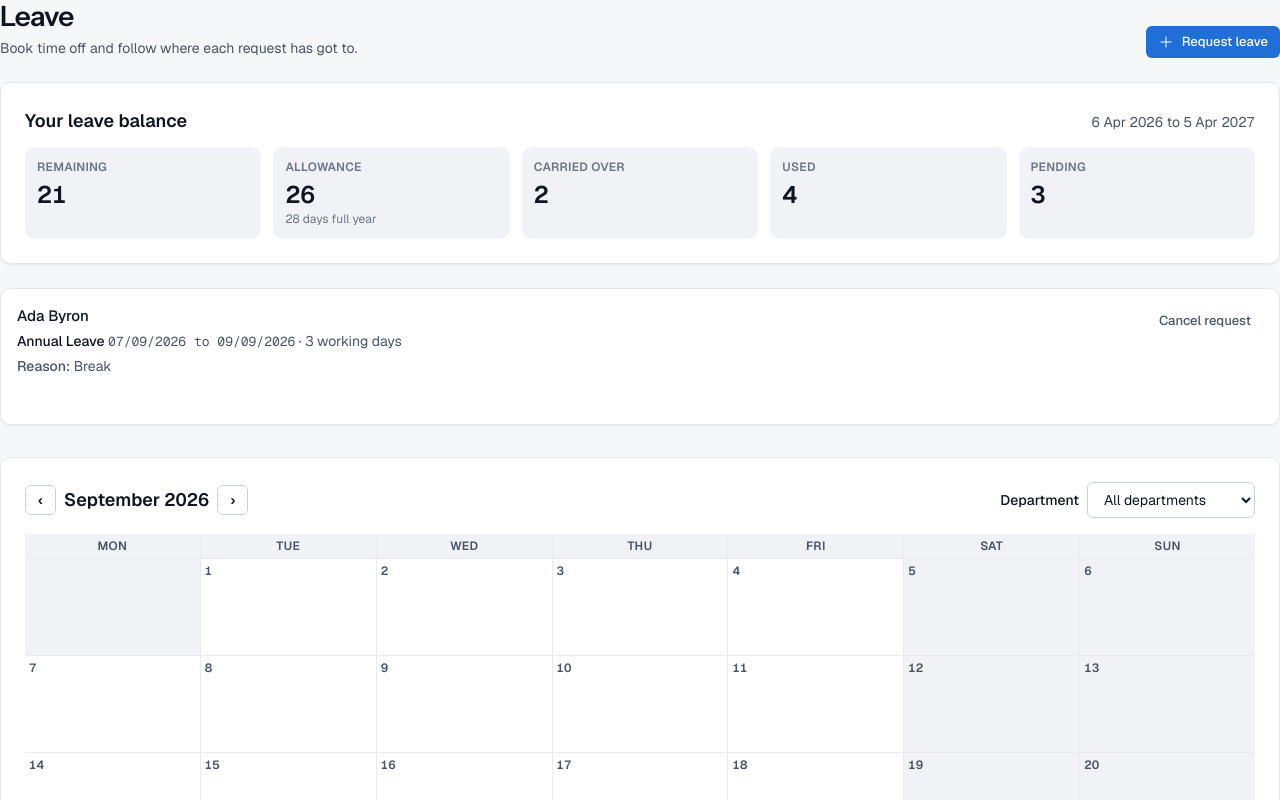
Test: Leave page › asks the server how many working days the dates cover
Step 1. Click the button "Request leave" → (1213, 42), box [1146, 26, 1279, 58]
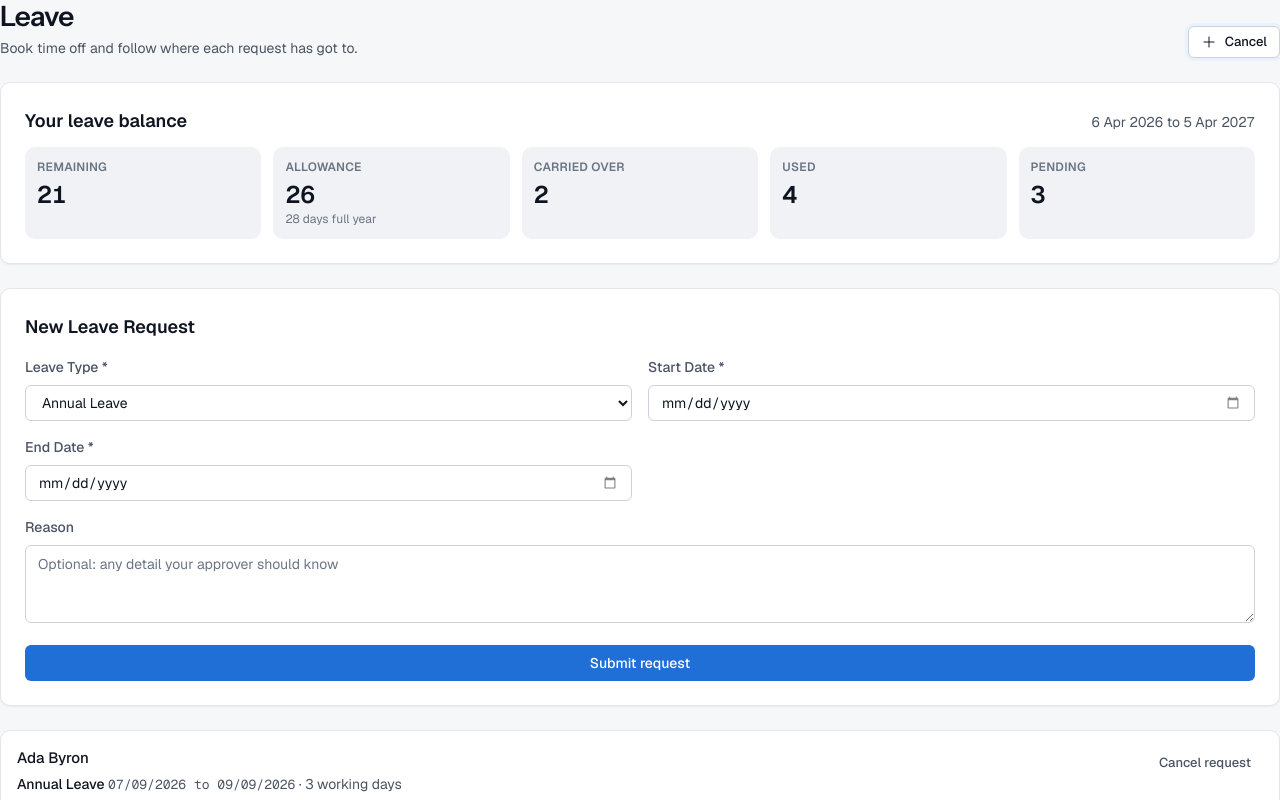
Step 2. Type "2026-09-07" into the date field labelled "Start Date *" → (952, 403), box [648, 385, 1255, 421]
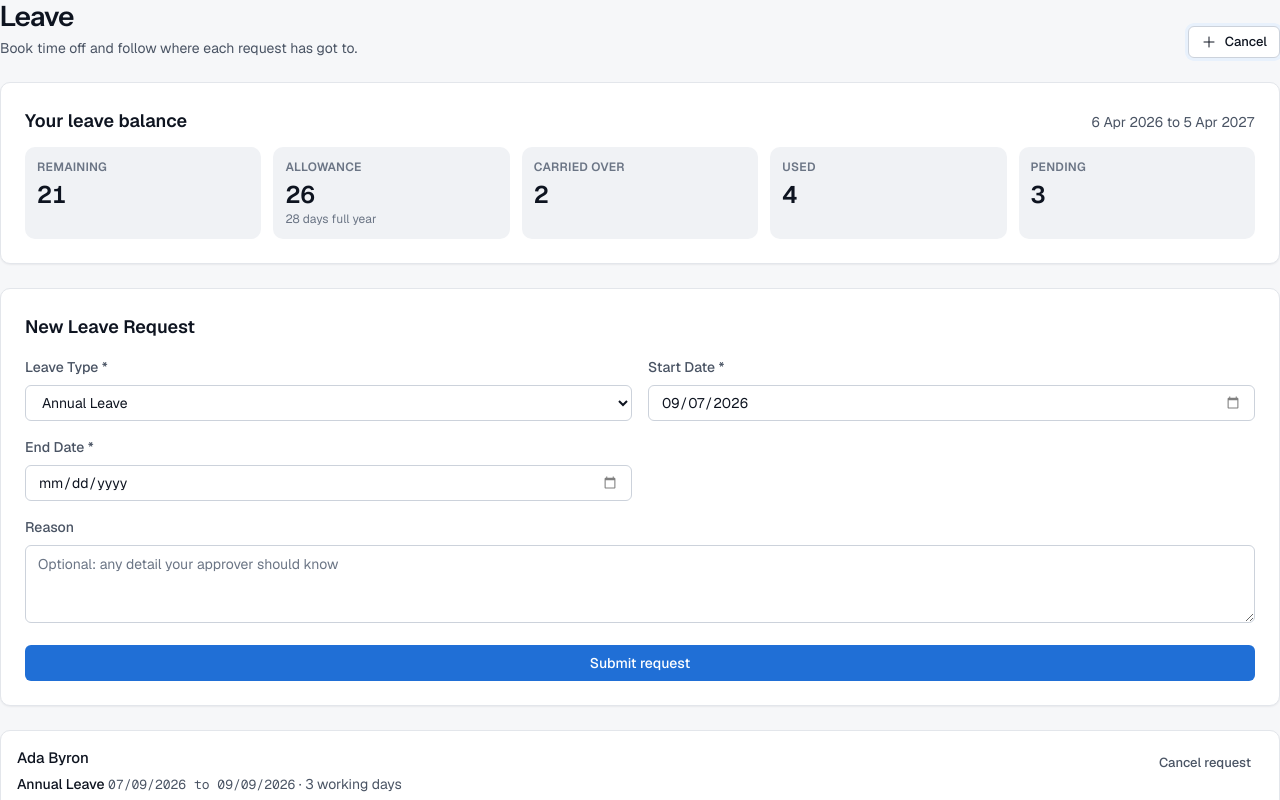
Step 3. Type "2026-09-09" into the date field labelled "End Date *" → (328, 483), box [25, 465, 632, 501]
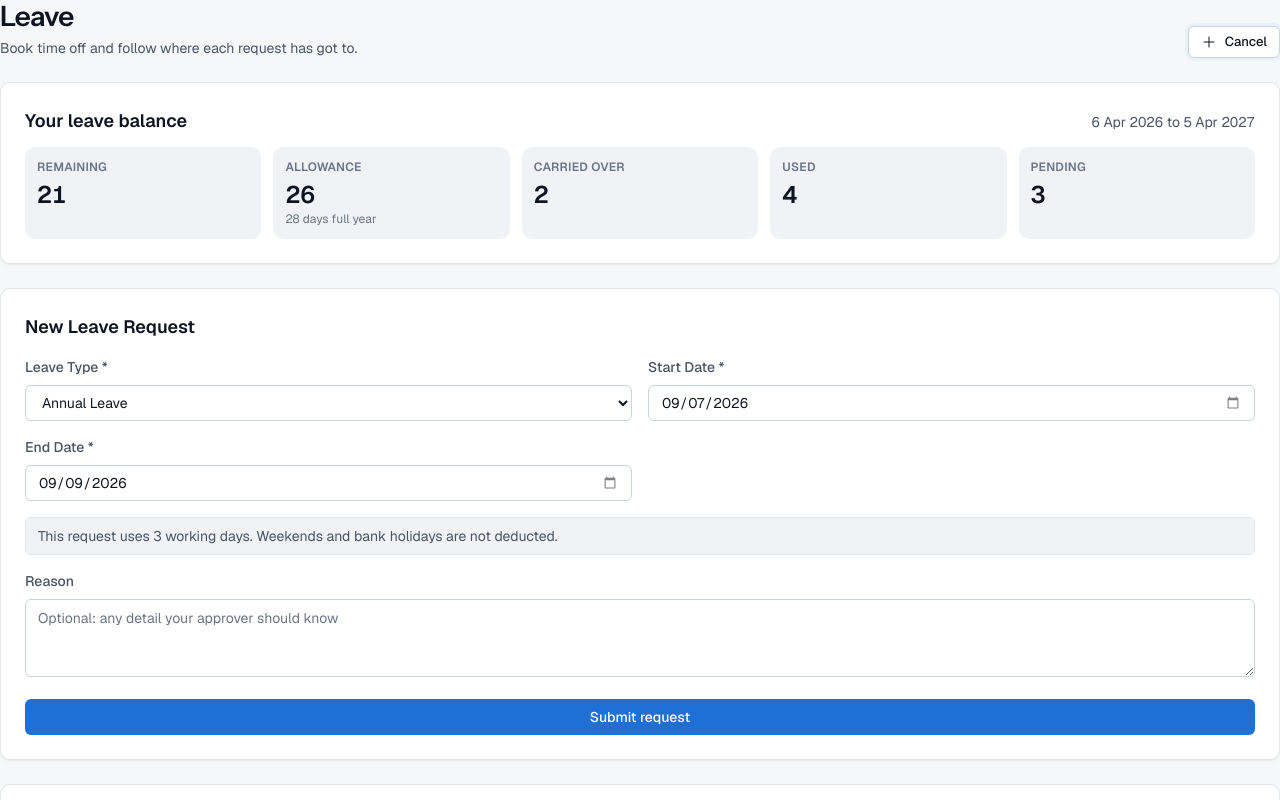
Check: the text "This request uses 3 working days" is shown, box [25, 517, 1255, 555]
